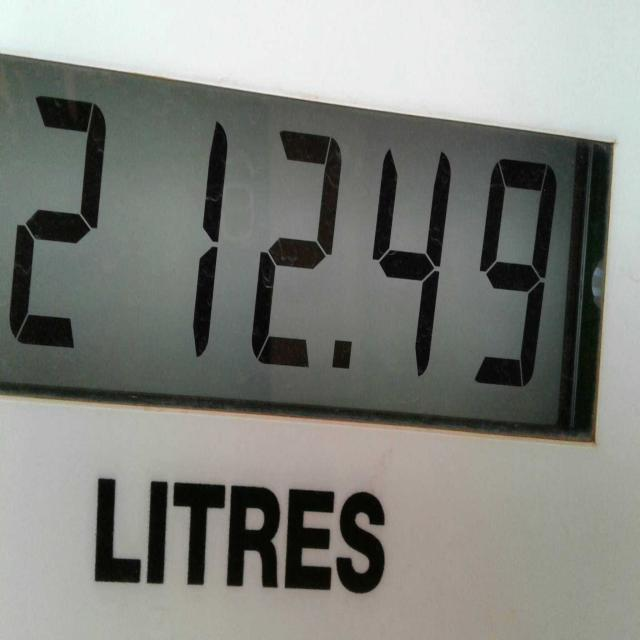.: (314, 316, 364, 384)
2: (0, 80, 112, 360), (246, 114, 337, 380), (159, 97, 232, 375)
4: (356, 130, 458, 378)
9: (473, 148, 562, 407)
